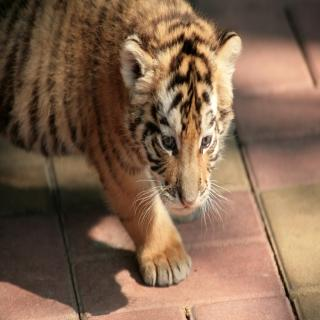Tiger: (0, 0, 244, 297)
